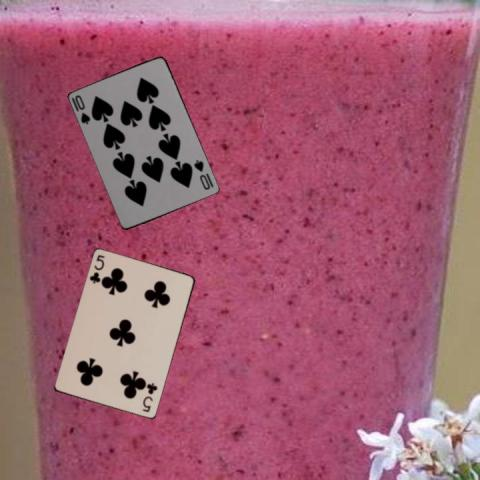10s: (191, 158, 212, 192), (72, 92, 92, 126)
5c: (139, 380, 159, 414), (87, 252, 106, 285)
